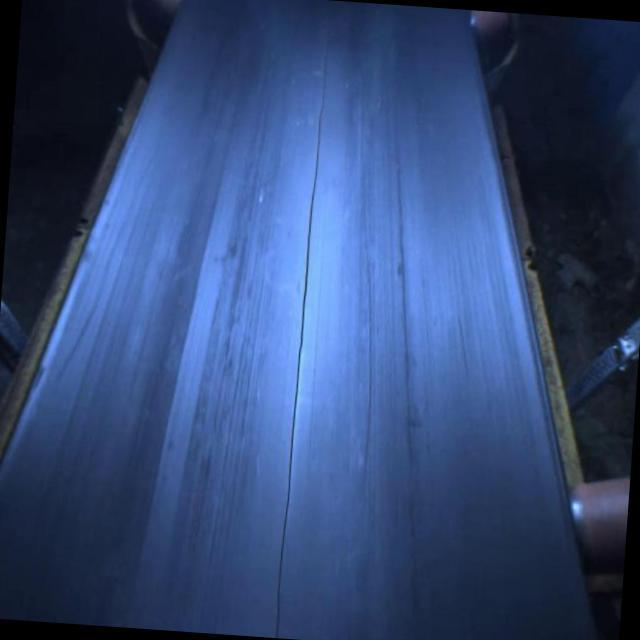Tear: (260, 16, 342, 640)
